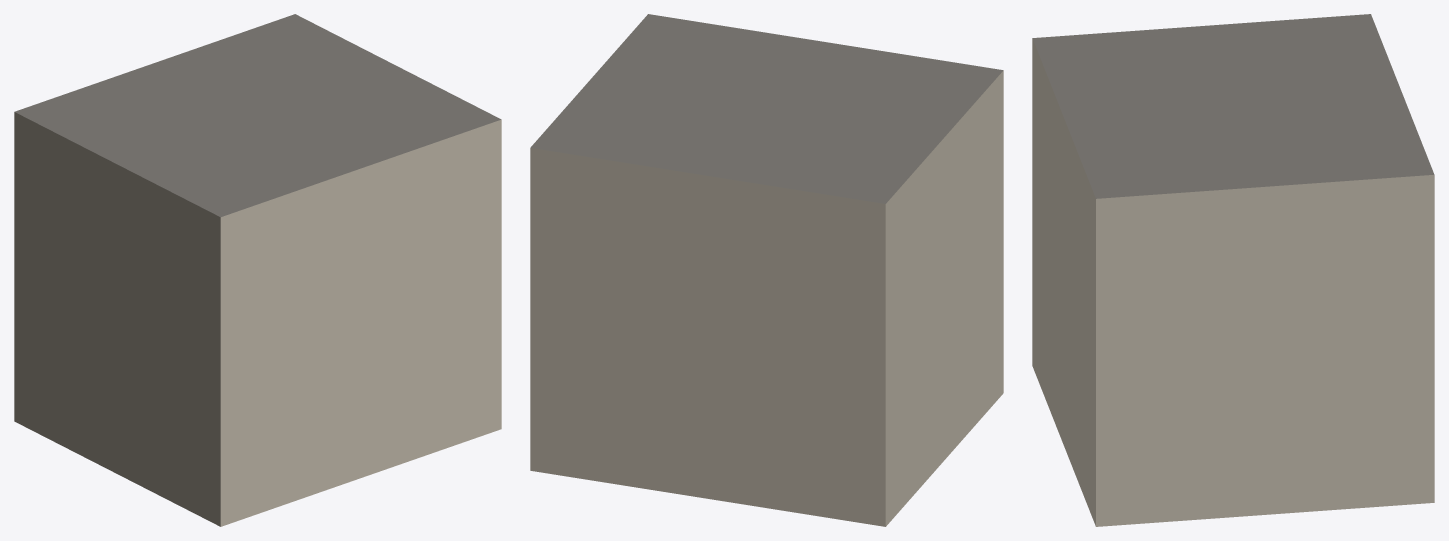
The picture shows the model from 3 angles, left to right: view 1: azimuth 30°, elevation 25°; view 2: azimuth 150°, elevation 25°; view 3: azimuth 270°, elevation 25°; orthographic projection. The views are drawn at different scales.
Visible parts, largest first — view 1: HP-w1287260204; view 2: HP-w1287260204; view 3: HP-w1287260204.
Part boxes in pixels (left/top/right/bottom): HP-w1287260204: left=14, top=14, right=501, bottom=526; HP-w1287260204: left=530, top=14, right=1003, bottom=526; HP-w1287260204: left=1032, top=14, right=1434, bottom=526.
Size of the model in its own units: 21.75 by 18 by 19.99.
